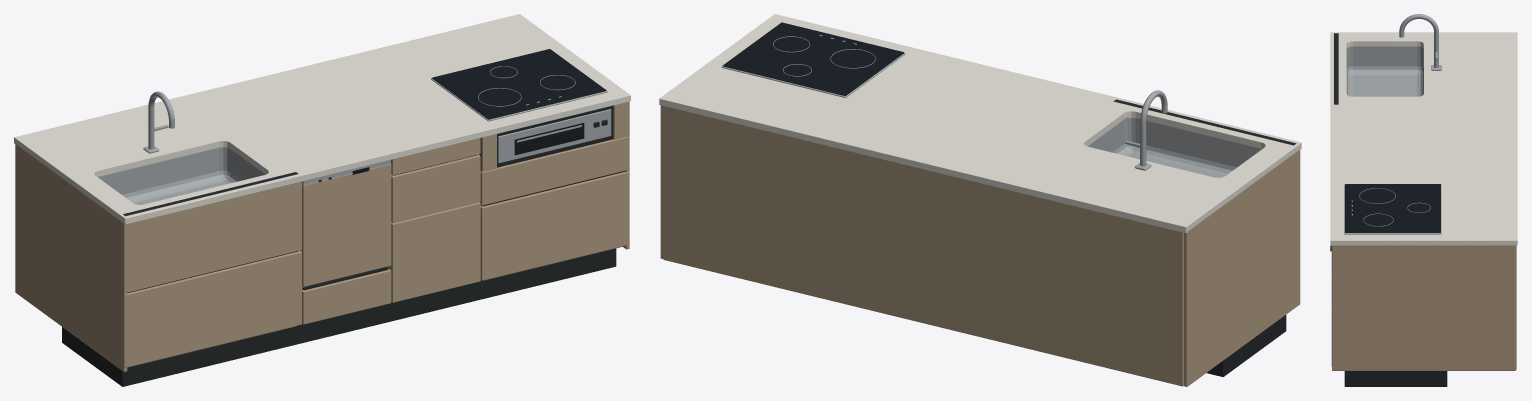
File: original-kitchen-p2550-970.glb
3 views of the same model, side by side, from view 1: azimuth 30°, elevation 25°; view 2: azimuth 150°, elevation 25°; view 3: azimuth 270°, elevation 25° (orthographic). The views are drawn at different scales.
Parts seen in each view (by area): view 1: original-kitchen-p2550-970; view 2: original-kitchen-p2550-970; view 3: original-kitchen-p2550-970.
Boxes of the visible parts, x1,y1,x2,y2 form: original-kitchen-p2550-970: [14, 14, 630, 386]; original-kitchen-p2550-970: [659, 14, 1301, 386]; original-kitchen-p2550-970: [1330, 14, 1517, 386].
Bounding box in the file's own units: 2.55 × 1.16 × 0.97.
